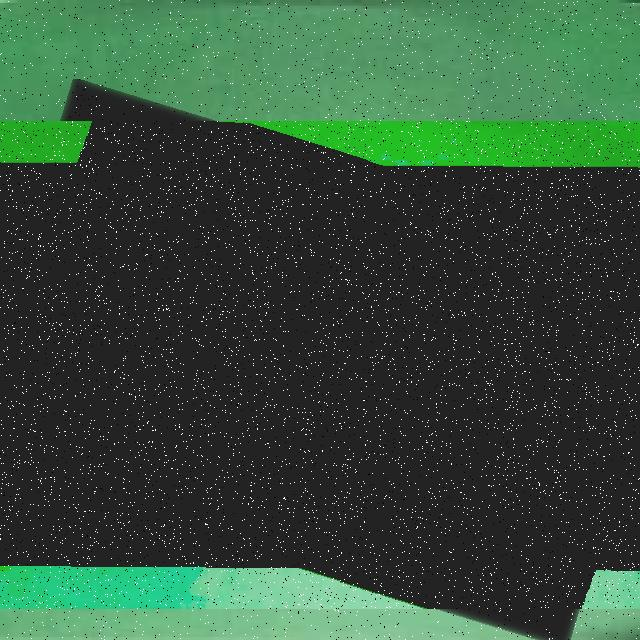dua ribu rupiah: (0, 121, 640, 609)
